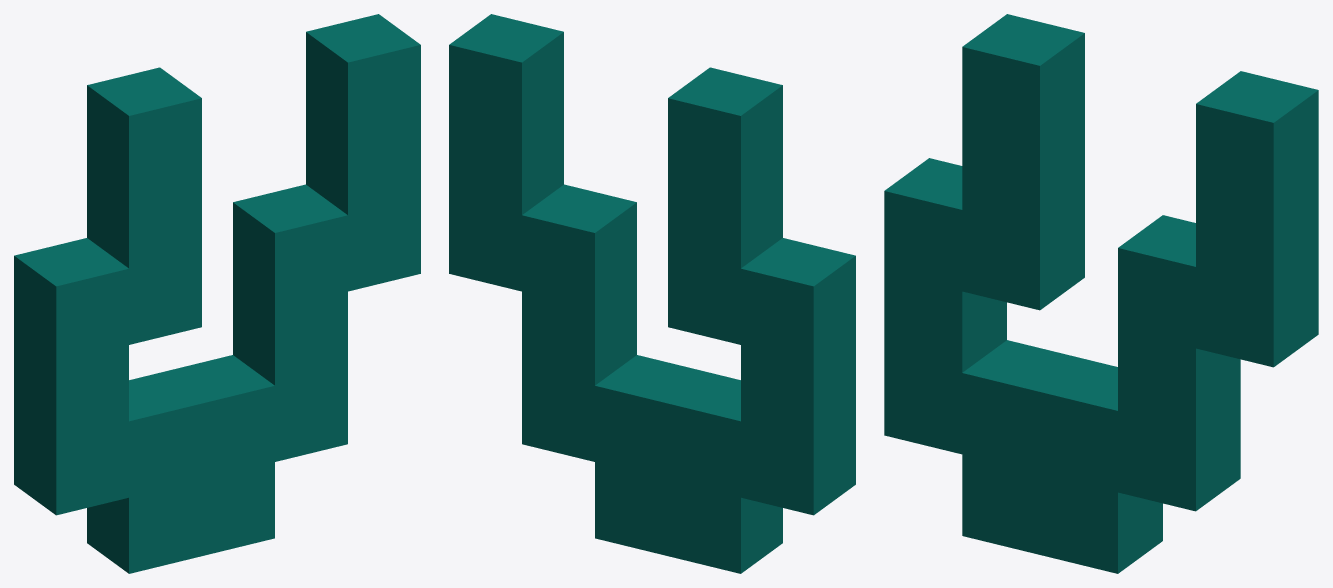
The model's file is grass-01.glb.
3 renders of one model, left to right at view 1: azimuth 30°, elevation 25°; view 2: azimuth 150°, elevation 25°; view 3: azimuth 330°, elevation 25°, orthographic. The views are drawn at different scales.
Parts seen in each view (by area): view 1: generated(Clone); view 2: generated(Clone); view 3: generated(Clone).
Part boxes in pixels (x1=…): generated(Clone): x1=14, y1=14, x2=420, y2=573; generated(Clone): x1=449, y1=14, x2=855, y2=573; generated(Clone): x1=884, y1=14, x2=1318, y2=573.
Bounding box in the file's own units: 5 × 6 × 1.
1 material, 1 textured.
